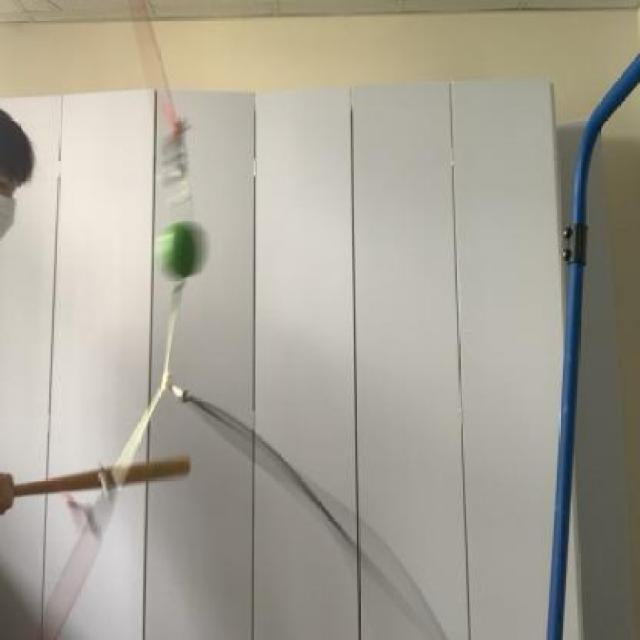baseball: (153, 212, 210, 292)
